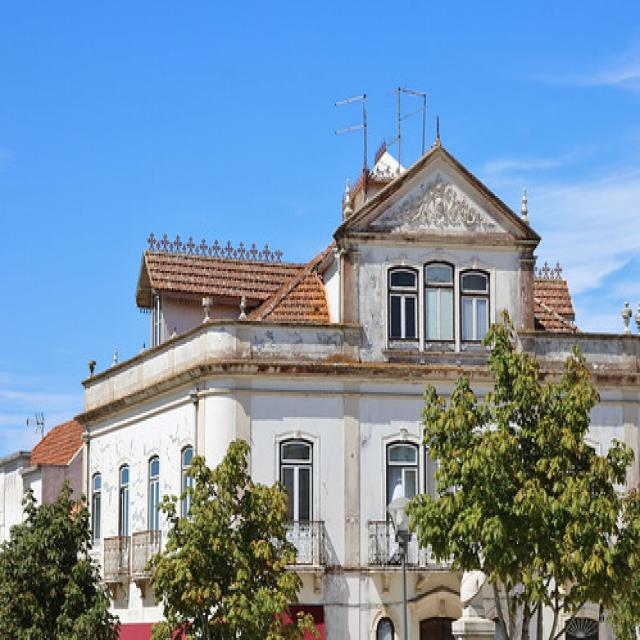Normal_building: (74, 136, 640, 640)
